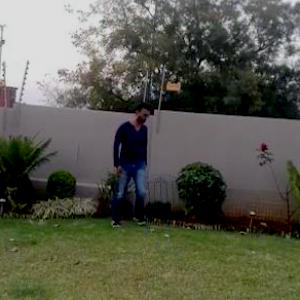follow: (109, 102, 150, 229)
